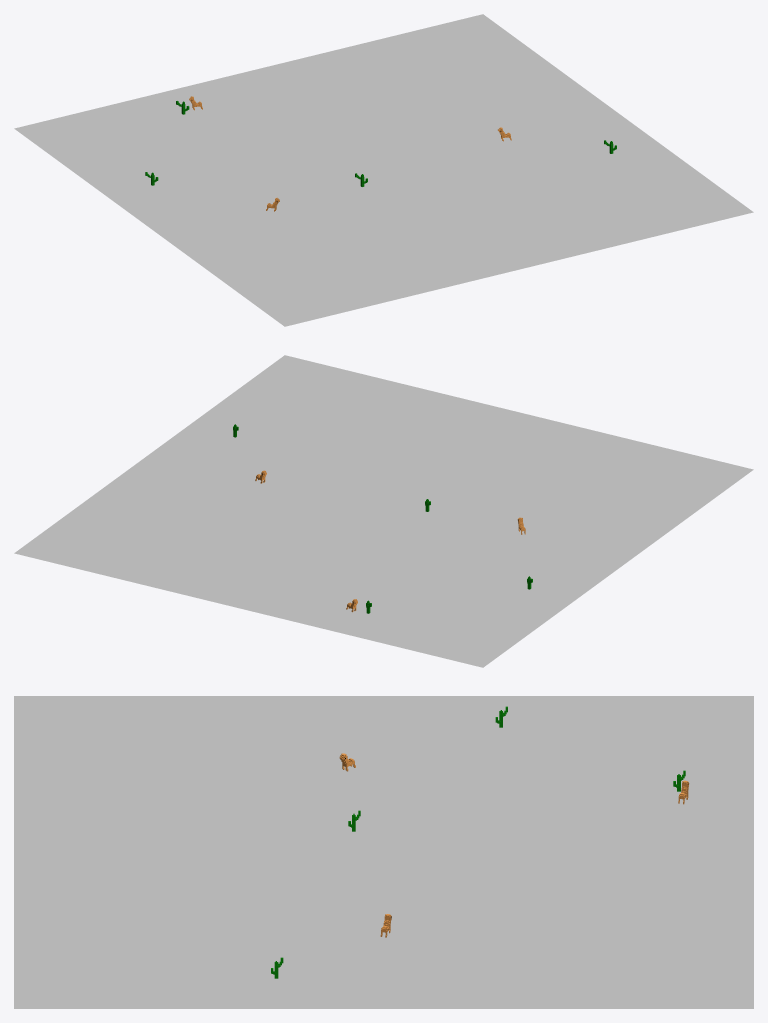
The model's file is Map3.fbx.
3 views of the same model, one above another, from view 1: azimuth 30°, elevation 25°; view 2: azimuth 150°, elevation 25°; view 3: azimuth 270°, elevation 25° (orthographic). The views are drawn at different scales.
Visible parts, largest first — view 1: pPlane1; view 2: pPlane1; view 3: pPlane1.
Boxes of the visible parts, x1,y1,x2,y2 form: pPlane1: [14, 14, 753, 326]; pPlane1: [14, 355, 753, 667]; pPlane1: [14, 696, 753, 1008].
Bounding box in the file's own units: 60 × 1.5 × 60.
